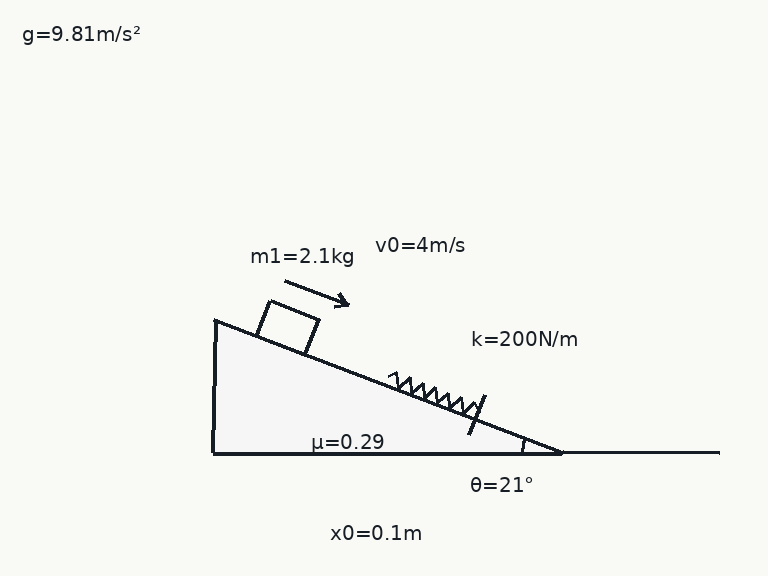block: (255, 299, 320, 356)
ramp: (212, 317, 564, 455)
spring: (386, 370, 480, 415)
